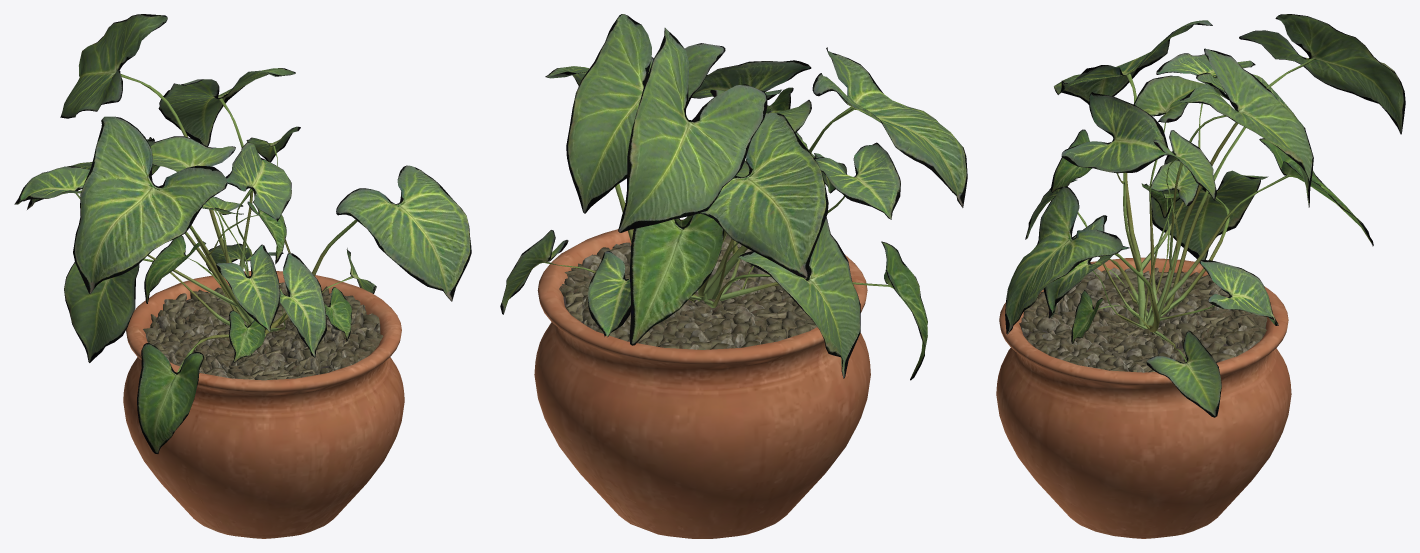
Rendered from potted_plant_02.glb.
The picture shows the model from 3 angles, left to right: view 1: azimuth 30°, elevation 25°; view 2: azimuth 150°, elevation 25°; view 3: azimuth 270°, elevation 25°; orthographic projection. The views are drawn at different scales.
Visible parts, largest first — view 1: potted_plant_02_leaves, potted_plant_02_pot; view 2: potted_plant_02_leaves, potted_plant_02_pot; view 3: potted_plant_02_pot, potted_plant_02_leaves.
Boxes of the visible parts, x1,y1,x2,y2 form: potted_plant_02_leaves: (14, 14, 471, 453); potted_plant_02_pot: (123, 271, 404, 538); potted_plant_02_leaves: (500, 14, 967, 380); potted_plant_02_pot: (534, 219, 870, 538); potted_plant_02_pot: (996, 257, 1291, 538); potted_plant_02_leaves: (1005, 14, 1405, 417).
Size of the model in its own units: 0.7009 by 0.8412 by 0.6574.
2 materials, 2 textured.
